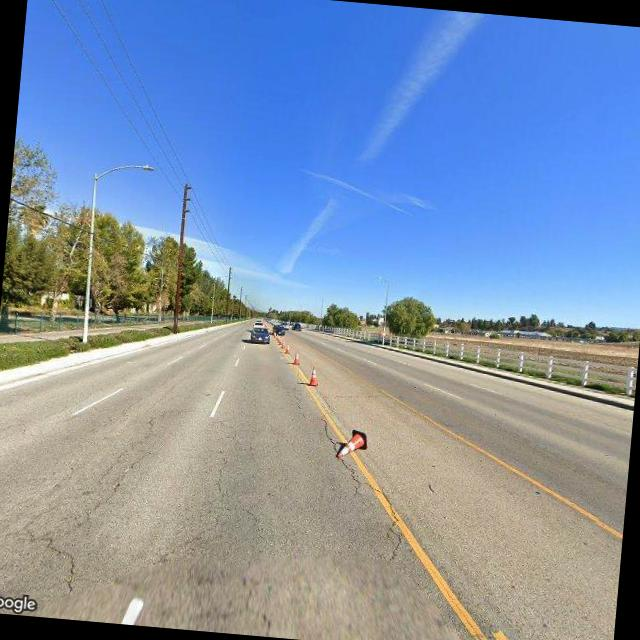pothole: (307, 408, 419, 558), (84, 413, 159, 522), (22, 530, 82, 595), (210, 419, 239, 501)
